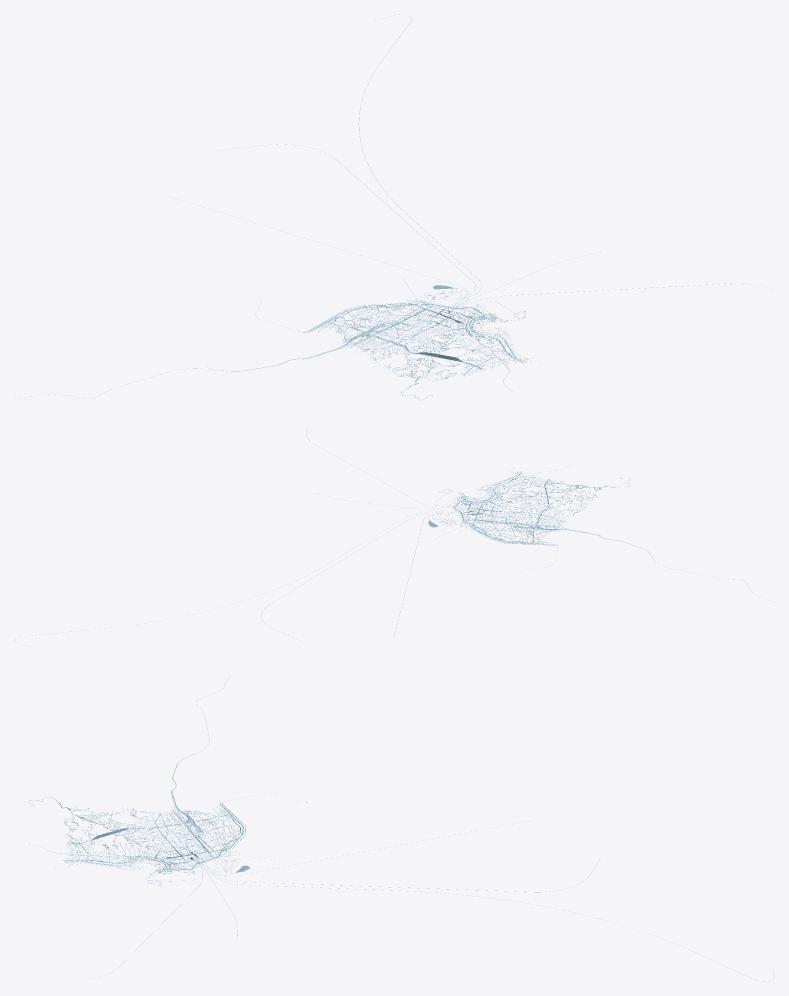
The model's file is roads.glb.
3 views of the same model, one above another, from view 1: azimuth 30°, elevation 25°; view 2: azimuth 150°, elevation 25°; view 3: azimuth 270°, elevation 25° (orthographic). The views are drawn at different scales.
Parts seen in each view (by area): view 1: roads; view 2: roads; view 3: roads.
Part boxes in pixels (x1,y1,x2,y2): roads: (15, 14, 764, 400); roads: (14, 429, 774, 646); roads: (28, 675, 774, 981).
Bounding box in the file's own units: 19846 × 267 × 20812.
